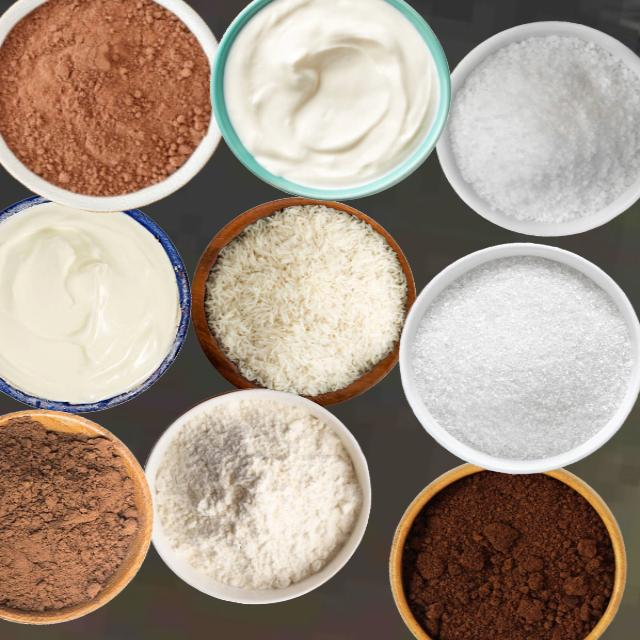Cocoa: (0, 0, 212, 197), (0, 409, 152, 624)
Coffee: (401, 469, 617, 639)
Flour: (154, 397, 362, 590)
Sugar: (409, 254, 635, 460), (447, 33, 639, 223)
